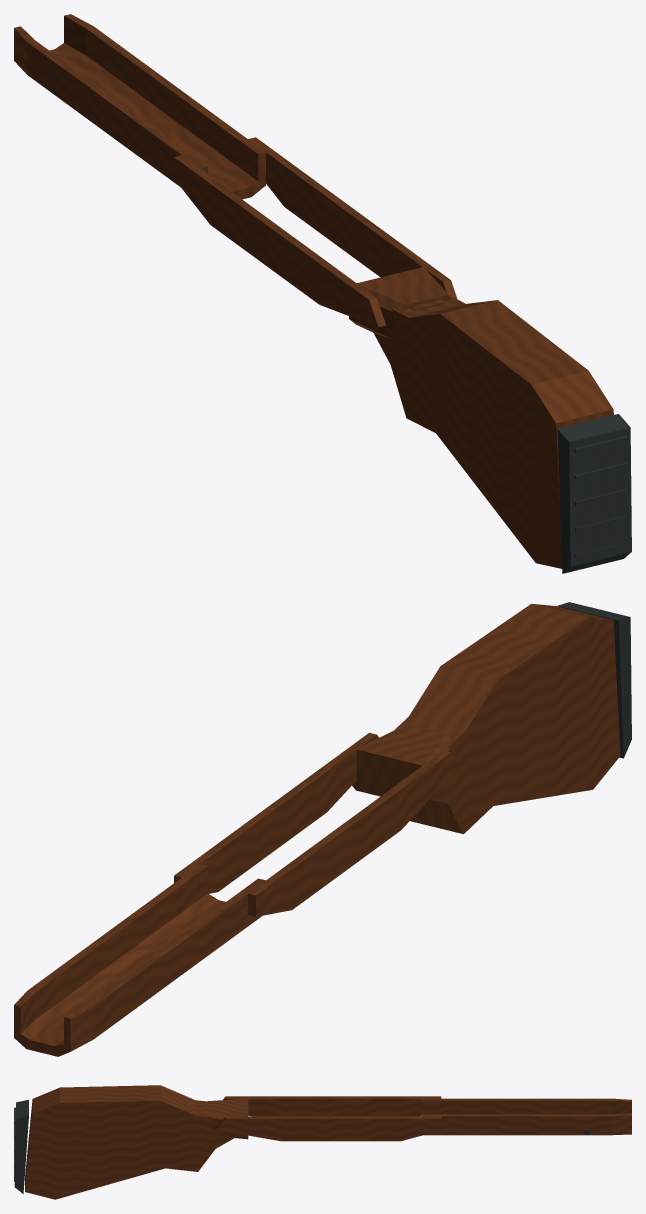
File: m14_stock.glb
The picture shows the model from 3 angles, top to bottom: view 1: azimuth 30°, elevation 25°; view 2: azimuth 150°, elevation 25°; view 3: azimuth 270°, elevation 25°; orthographic projection. The views are drawn at different scales.
Parts seen in each view (by area): view 1: stock__m14_stock_LOD0_RAID_Secondary_Original_wood, stock__m14_stock_LOD1_RAID_Secondary_Original_wood, stock__m14_stock_LOD0_RAID_Secondary_Original_steel, stock__m14_stock_LOD1_RAID_Secondary_Original_steel; view 2: stock__m14_stock_LOD0_RAID_Secondary_Original_wood, stock__m14_stock_LOD1_RAID_Secondary_Original_wood, stock__m14_stock_LOD1_RAID_Secondary_Original_steel, stock__m14_stock_LOD0_RAID_Secondary_Original_steel; view 3: stock__m14_stock_LOD0_RAID_Secondary_Original_wood, stock__m14_stock_LOD1_RAID_Secondary_Original_wood, stock__m14_stock_LOD0_RAID_Secondary_Original_steel, stock__m14_stock_LOD1_RAID_Secondary_Original_steel.
Part boxes in pixels (<box>): stock__m14_stock_LOD0_RAID_Secondary_Original_wood: <box>14,14,611,565</box>; stock__m14_stock_LOD1_RAID_Secondary_Original_wood: <box>373,294,613,568</box>; stock__m14_stock_LOD0_RAID_Secondary_Original_steel: <box>557,429,630,572</box>; stock__m14_stock_LOD1_RAID_Secondary_Original_steel: <box>557,414,631,573</box>; stock__m14_stock_LOD0_RAID_Secondary_Original_wood: <box>14,604,619,1056</box>; stock__m14_stock_LOD1_RAID_Secondary_Original_wood: <box>395,604,620,834</box>; stock__m14_stock_LOD1_RAID_Secondary_Original_steel: <box>557,602,631,758</box>; stock__m14_stock_LOD0_RAID_Secondary_Original_steel: <box>613,619,631,756</box>; stock__m14_stock_LOD0_RAID_Secondary_Original_wood: <box>27,1086,631,1198</box>; stock__m14_stock_LOD1_RAID_Secondary_Original_wood: <box>25,1085,234,1199</box>; stock__m14_stock_LOD0_RAID_Secondary_Original_steel: <box>14,1107,589,1192</box>; stock__m14_stock_LOD1_RAID_Secondary_Original_steel: <box>14,1099,28,1193</box>.
Bounding box in the file's own units: 0.104 × 0.218 × 1.23.
Materials: 2 (2 with a texture image).
